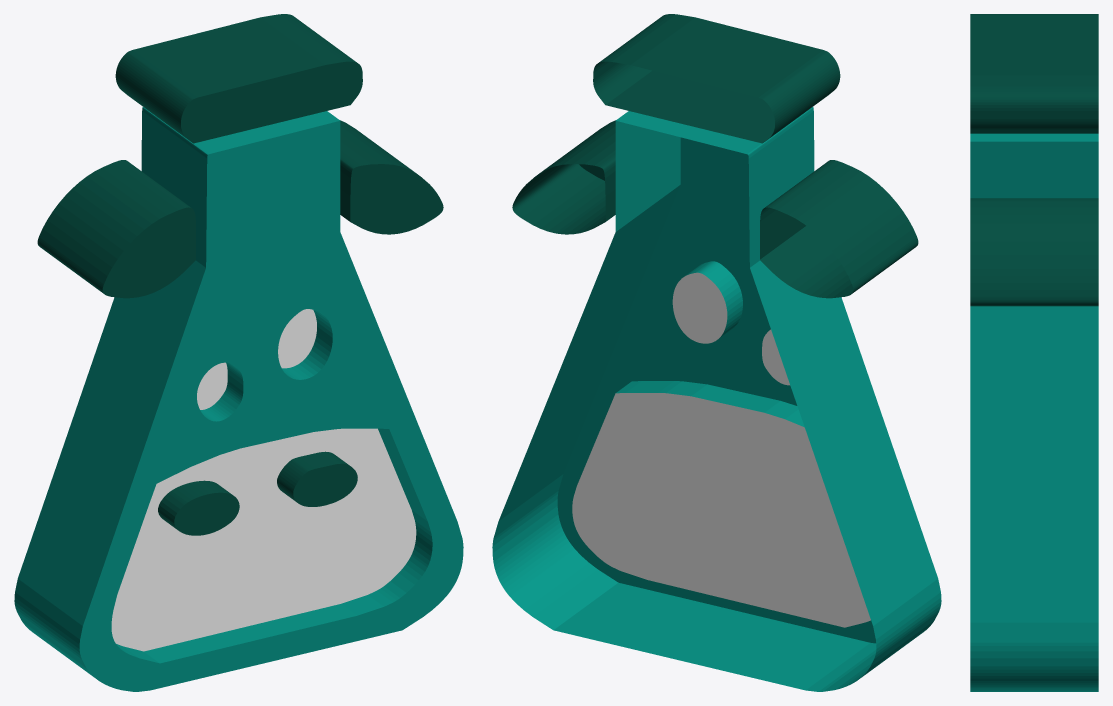
Rendered from IconI18n.gltf.
The picture shows the model from 3 angles, left to right: view 1: azimuth 30°, elevation 25°; view 2: azimuth 150°, elevation 25°; view 3: azimuth 270°, elevation 25°; orthographic projection.
Visible parts, largest first — view 1: IconI18n; view 2: IconI18n; view 3: IconI18n.
Boxes of the visible parts, bbox=[...] form: IconI18n: bbox=[14, 14, 463, 691]; IconI18n: bbox=[492, 14, 941, 691]; IconI18n: bbox=[970, 14, 1098, 691].
Bounding box in the file's own units: 1.36 × 1.98 × 0.4.
